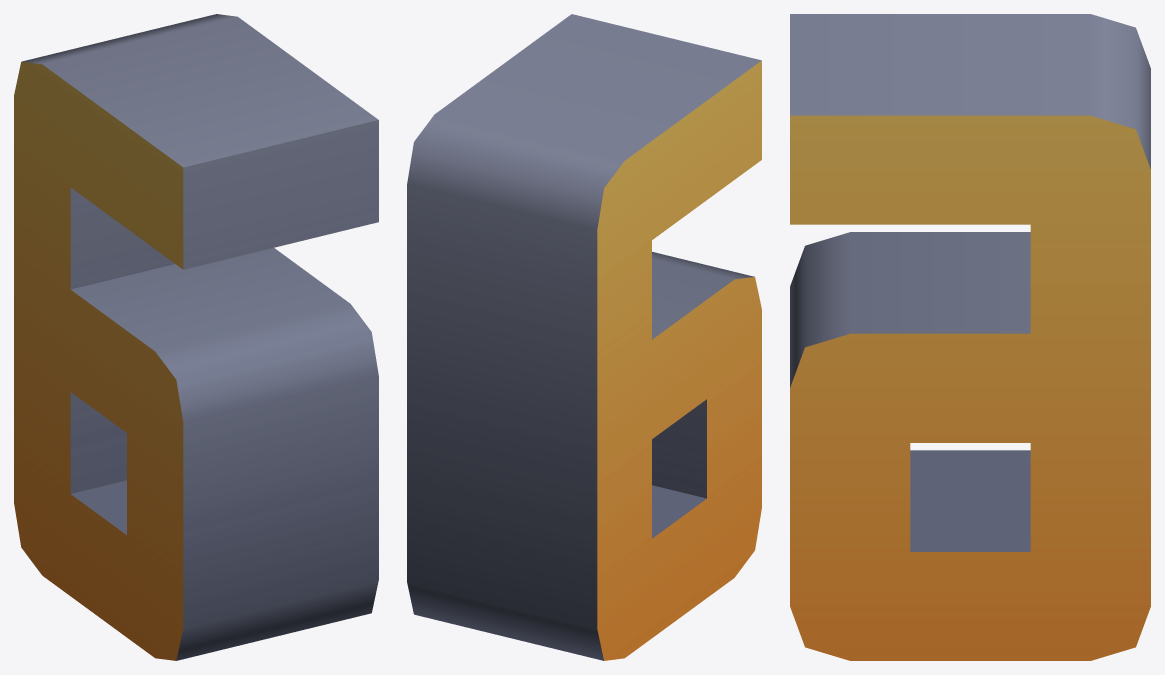
The model's file is number-6.fbx.
3 renders of one model, left to right at view 1: azimuth 30°, elevation 25°; view 2: azimuth 150°, elevation 25°; view 3: azimuth 270°, elevation 25°, orthographic. The views are drawn at different scales.
Parts seen in each view (by area): view 1: number-6; view 2: number-6; view 3: number-6.
Part boxes in pixels (x1=…): number-6: x1=14, y1=14, x2=378, y2=660; number-6: x1=407, y1=14, x2=761, y2=660; number-6: x1=790, y1=14, x2=1150, y2=660.
Size of the model in its own units: 20 by 50 by 30.
